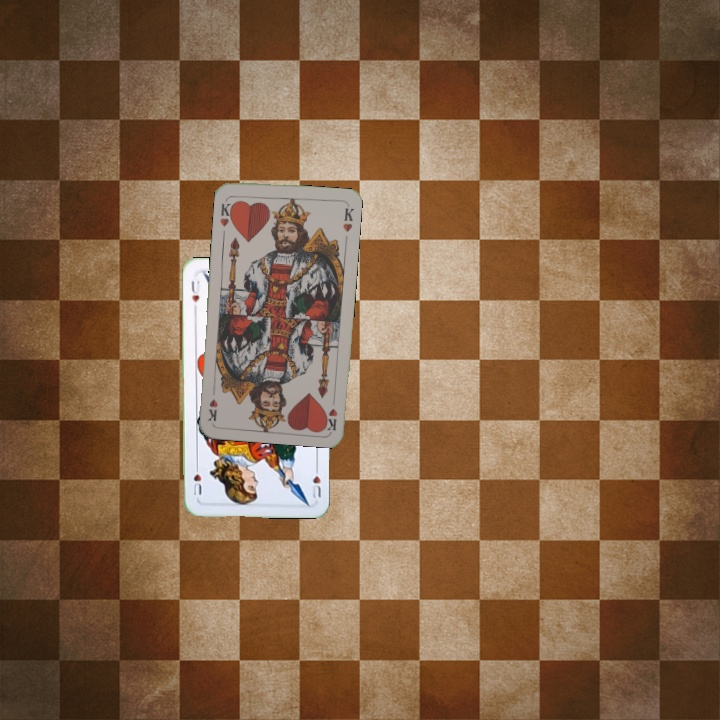HK: (321, 391, 340, 432), (216, 194, 236, 229)
HU: (309, 461, 323, 501), (188, 276, 202, 313)
